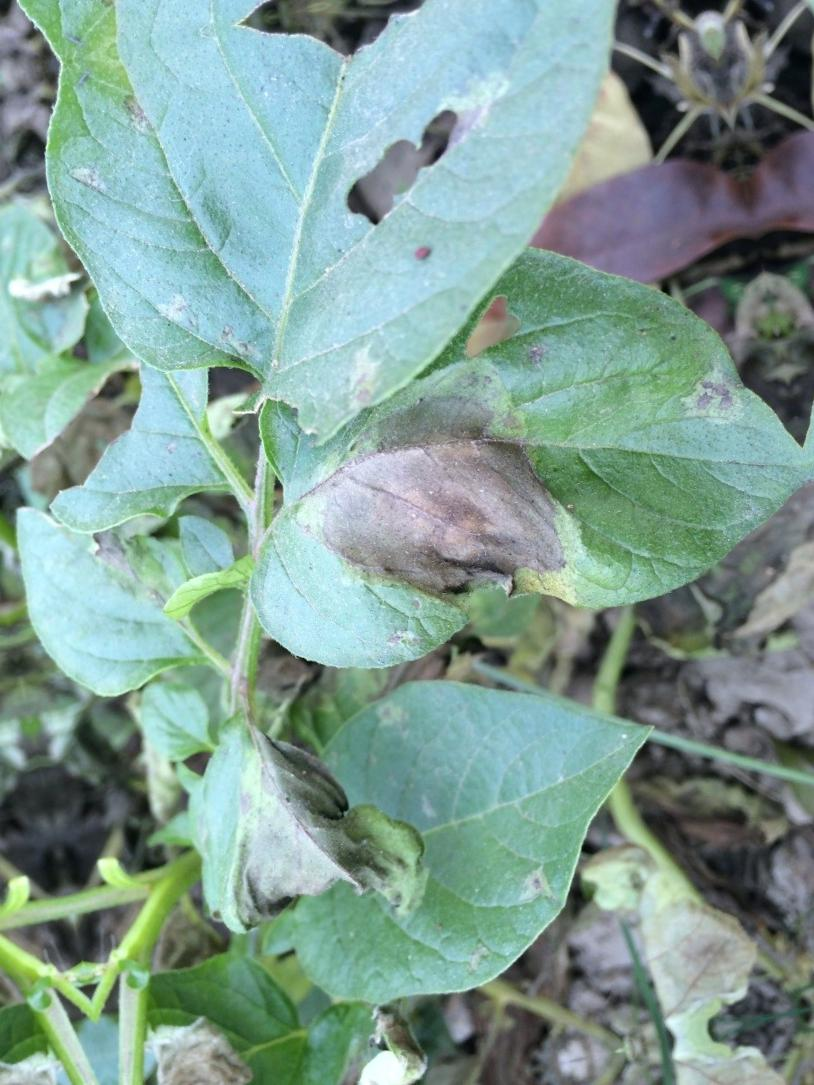Tomato leaf late blight: (200, 395, 624, 712), (152, 677, 429, 955)
